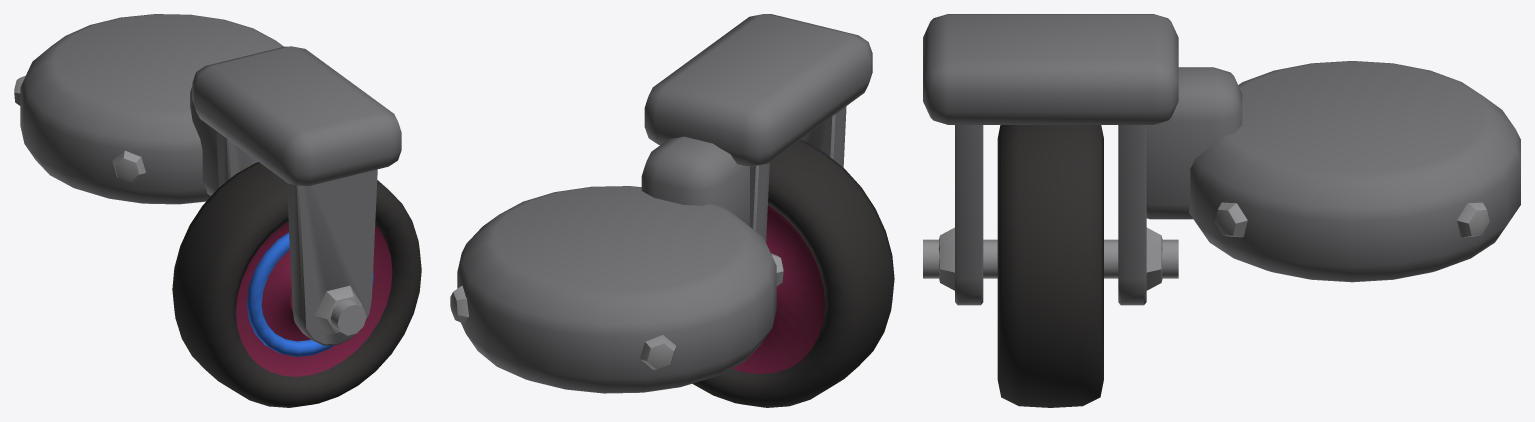
The model's file is Kit_Foot_Wheel.glb.
3 views of the same model, side by side, from view 1: azimuth 30°, elevation 25°; view 2: azimuth 150°, elevation 25°; view 3: azimuth 270°, elevation 25° (orthographic). The views are drawn at different scales.
Visible parts, largest first — view 1: Kit_Foot_Wheel; view 2: Kit_Foot_Wheel; view 3: Kit_Foot_Wheel.
Boxes of the visible parts, left/top/right/bottom form: Kit_Foot_Wheel: left=14, top=14, right=421, bottom=407; Kit_Foot_Wheel: left=450, top=14, right=894, bottom=407; Kit_Foot_Wheel: left=923, top=14, right=1520, bottom=407.
Size of the model in its own units: 0.096 by 0.111 by 0.1685.
